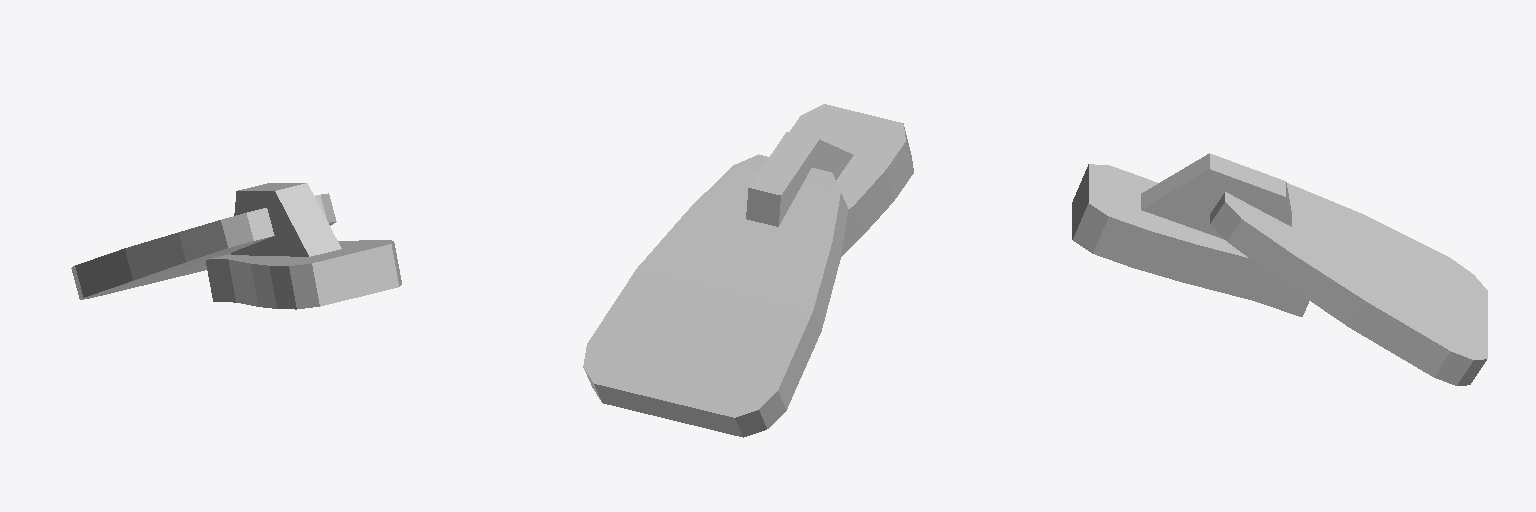
File: Idkwtfthisislmao.obj
3 views of the same model, side by side, from view 1: azimuth 30°, elevation 25°; view 2: azimuth 150°, elevation 25°; view 3: azimuth 270°, elevation 25° (orthographic).
Parts seen in each view (by area): view 1: IdfkWhatthisis; view 2: IdfkWhatthisis; view 3: IdfkWhatthisis.
Part boxes in pixels (x1,y1,x2,y2): IdfkWhatthisis: (71,183,401,309); IdfkWhatthisis: (583,104,913,437); IdfkWhatthisis: (1072,153,1487,385).
Bounding box in the file's own units: 0.0345 × 0.0328 × 0.065.